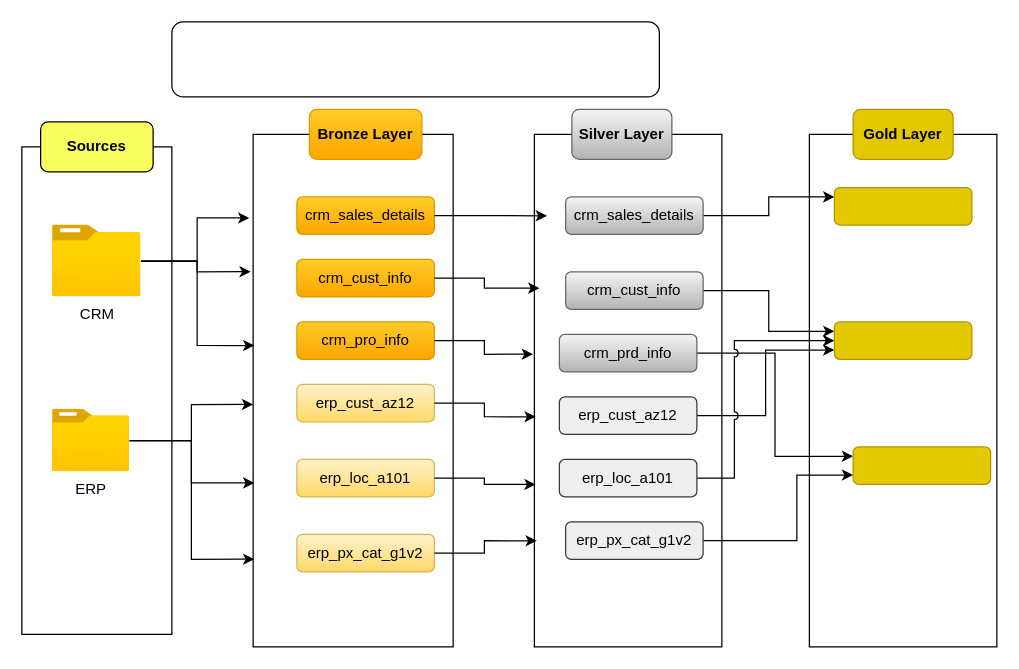
Some shapes in this 1019 by 669 pixel diagram are drawn without their labels. The centre of each missing label's shape, as x and y in pixels:
"Data Flow Diagram" belongs at point 415,59.
"dim_customers" belongs at point 902,340.
"dim_products" belongs at point 921,465.
"fact_sales" belongs at point 902,205.
